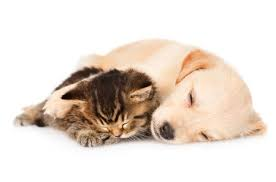cat: (19, 70, 151, 145)
dog: (151, 45, 263, 148)
